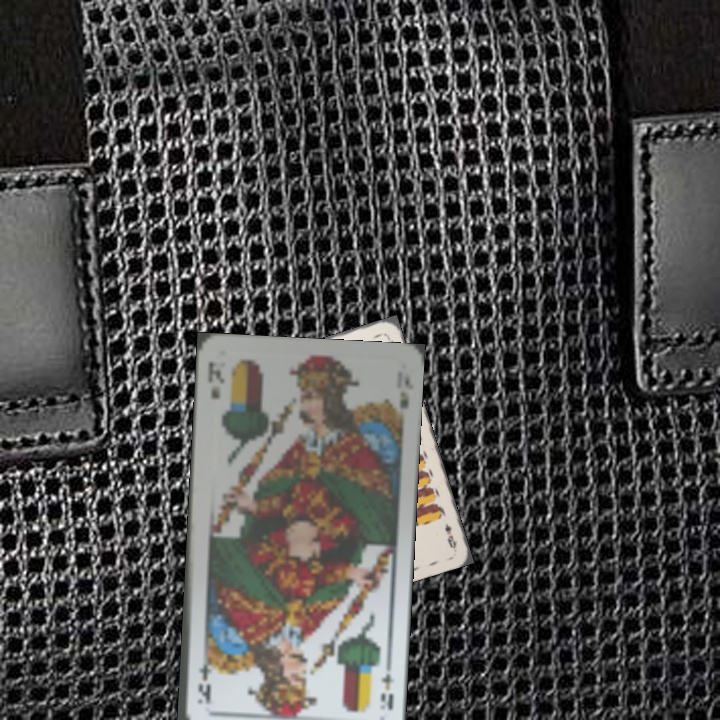E9: (441, 519, 460, 551)
EK: (376, 657, 397, 714), (203, 357, 228, 402)
